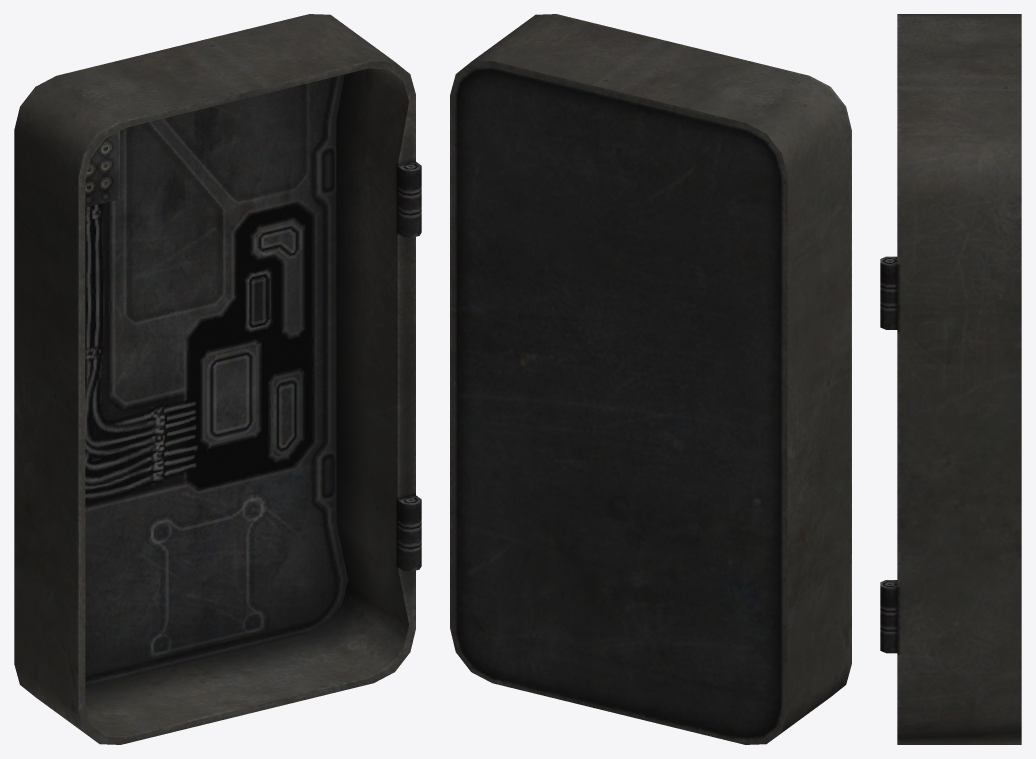
The model's file is cabinet_power_box_base.dae.
3 views of the same model, side by side, from view 1: azimuth 30°, elevation 25°; view 2: azimuth 150°, elevation 25°; view 3: azimuth 270°, elevation 25° (orthographic). The views are drawn at different scales.
Visible parts, largest first — view 1: box; view 2: box; view 3: box.
Boxes of the visible parts, x1,y1,x2,y2 form: box: (14,14,421,744); box: (450,14,851,744); box: (880,14,1021,744).
Size of the model in its own units: 0.6388 by 1.13 by 0.2391.
